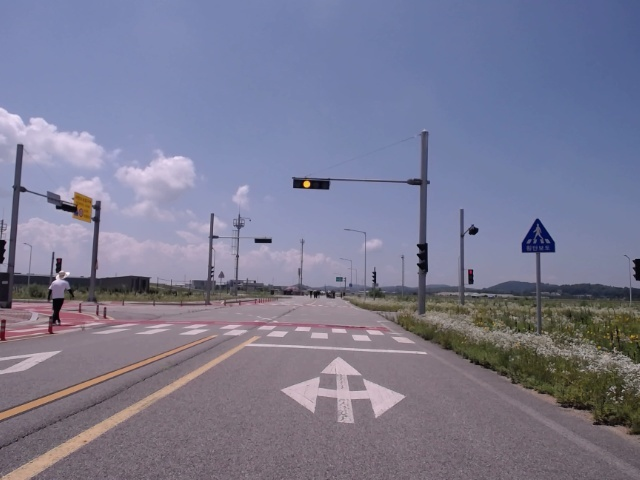orange_4: (295, 179, 331, 189)
